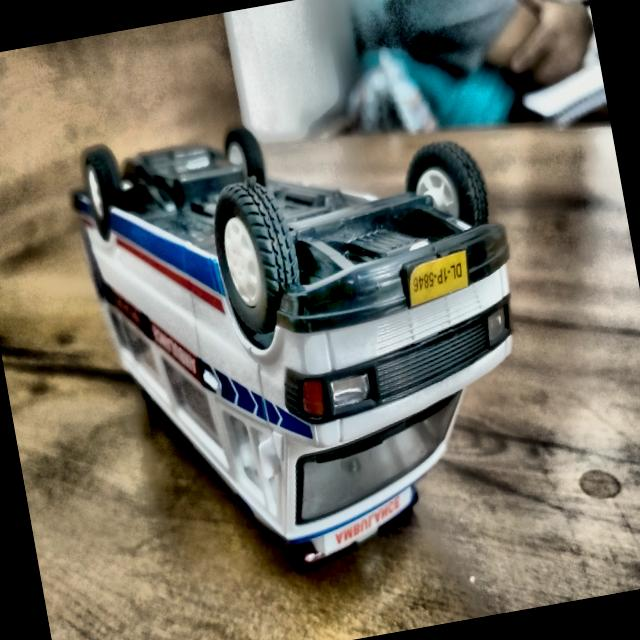Ambulance: (44, 69, 560, 618)
